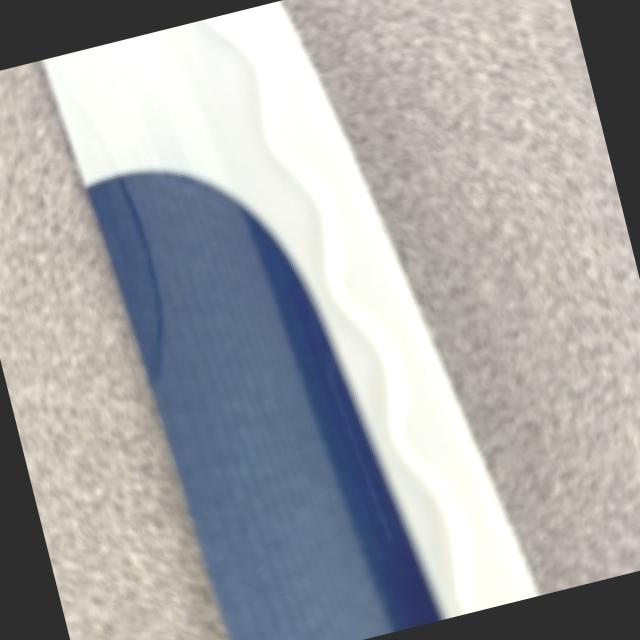healthy: (46, 2, 536, 613)
